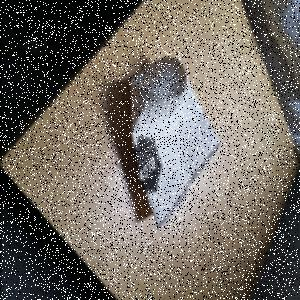Cup: (130, 57, 224, 233)
